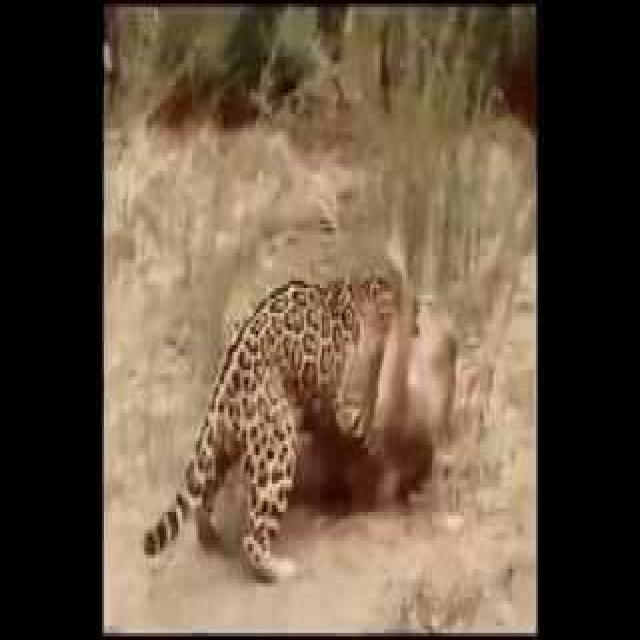Jaguar: (142, 278, 452, 590)
